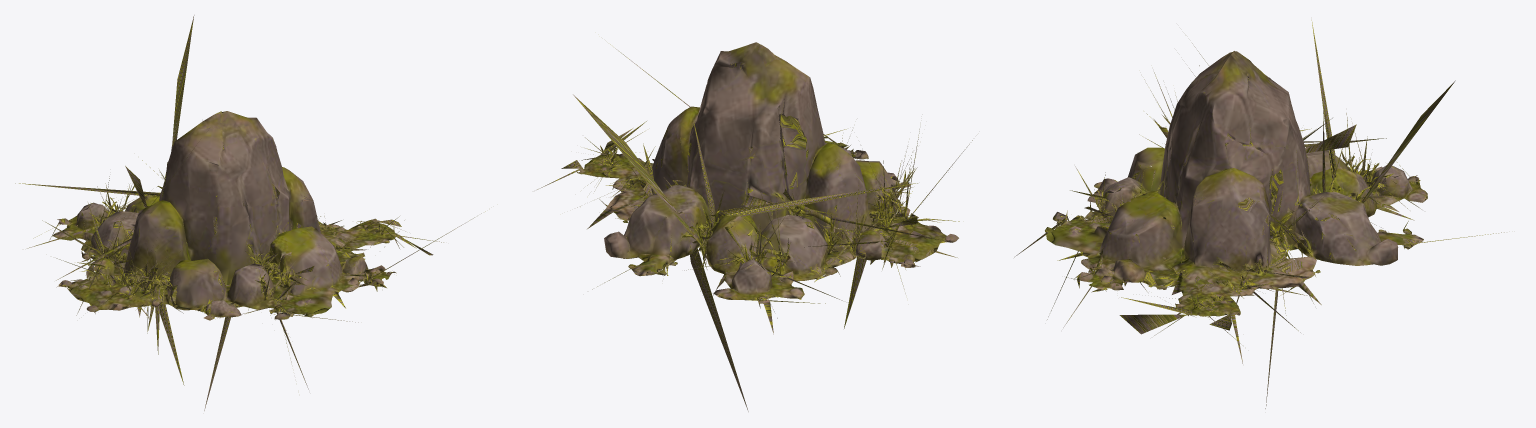
The model's file is rock_mid.glb.
3 renders of one model, left to right at view 1: azimuth 30°, elevation 25°; view 2: azimuth 150°, elevation 25°; view 3: azimuth 270°, elevation 25°, orthographic. The views are drawn at different scales.
Visible parts, largest first — view 1: Roccia_media; view 2: Roccia_media; view 3: Roccia_media.
Boxes of the visible parts, x1=… form: Roccia_media: x1=15, y1=15, x2=485, y2=410; Roccia_media: x1=537, y1=42, x2=972, y2=411; Roccia_media: x1=1014, y1=20, x2=1504, y2=408.
Bounding box in the file's own units: 2.35 × 1.9 × 2.3.
1 material, 1 textured.
